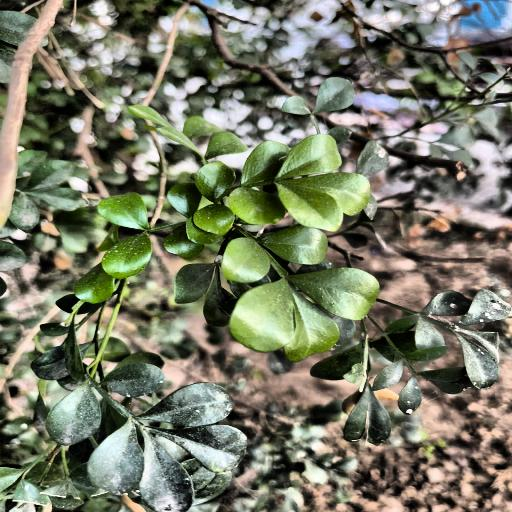la xanh: (212, 158, 380, 331)
